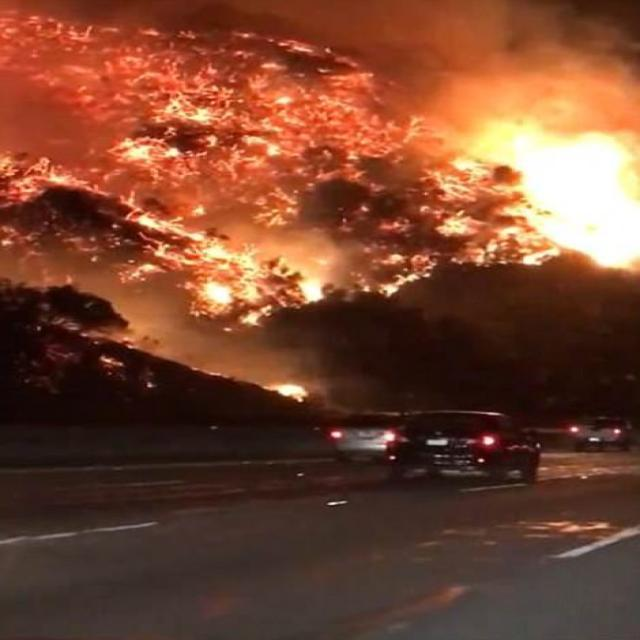Fire: (445, 112, 640, 286), (154, 88, 298, 162), (187, 270, 252, 319), (244, 374, 327, 412), (102, 134, 184, 168)
